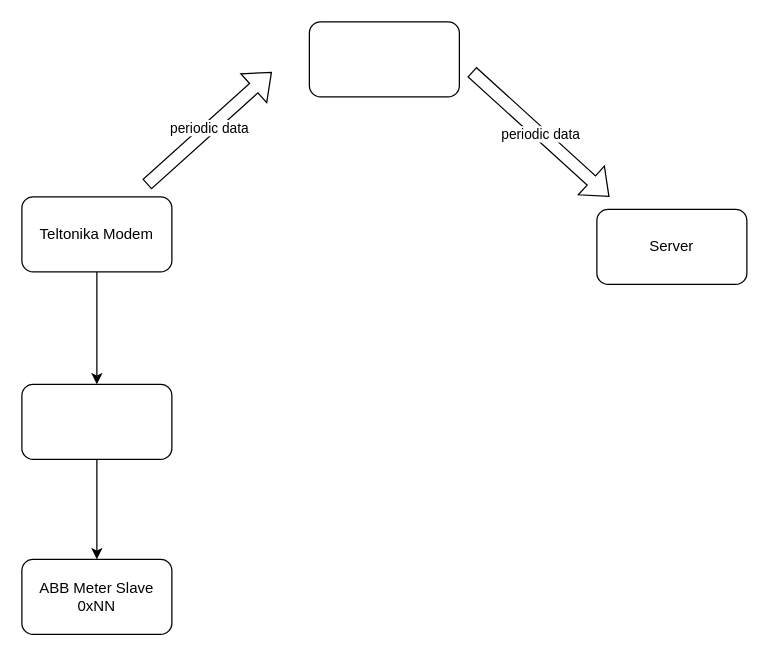
The diagram is 769 pixels wide and 656 high, and some of its shapes have lost their labels. The centre of each missing label's shape, as x and y in pixels:
"ABB Meter Slave 0x01" belongs at (x=96, y=421).
"MQTT Broker" belongs at (x=383, y=59).
